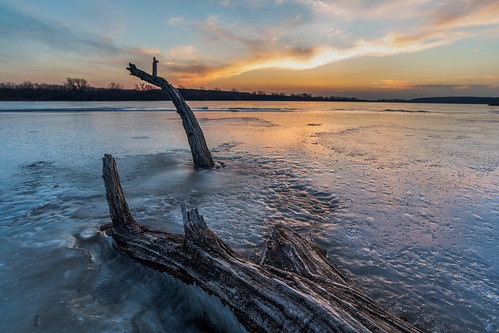river: (1, 109, 492, 333)
sky: (1, 1, 488, 97)
tree trunk: (96, 143, 418, 333), (119, 44, 235, 180)
